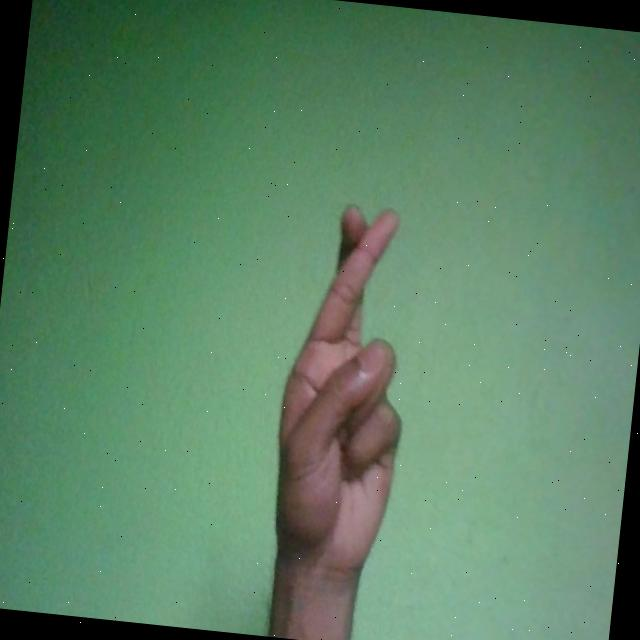Ok: (262, 198, 424, 596)
